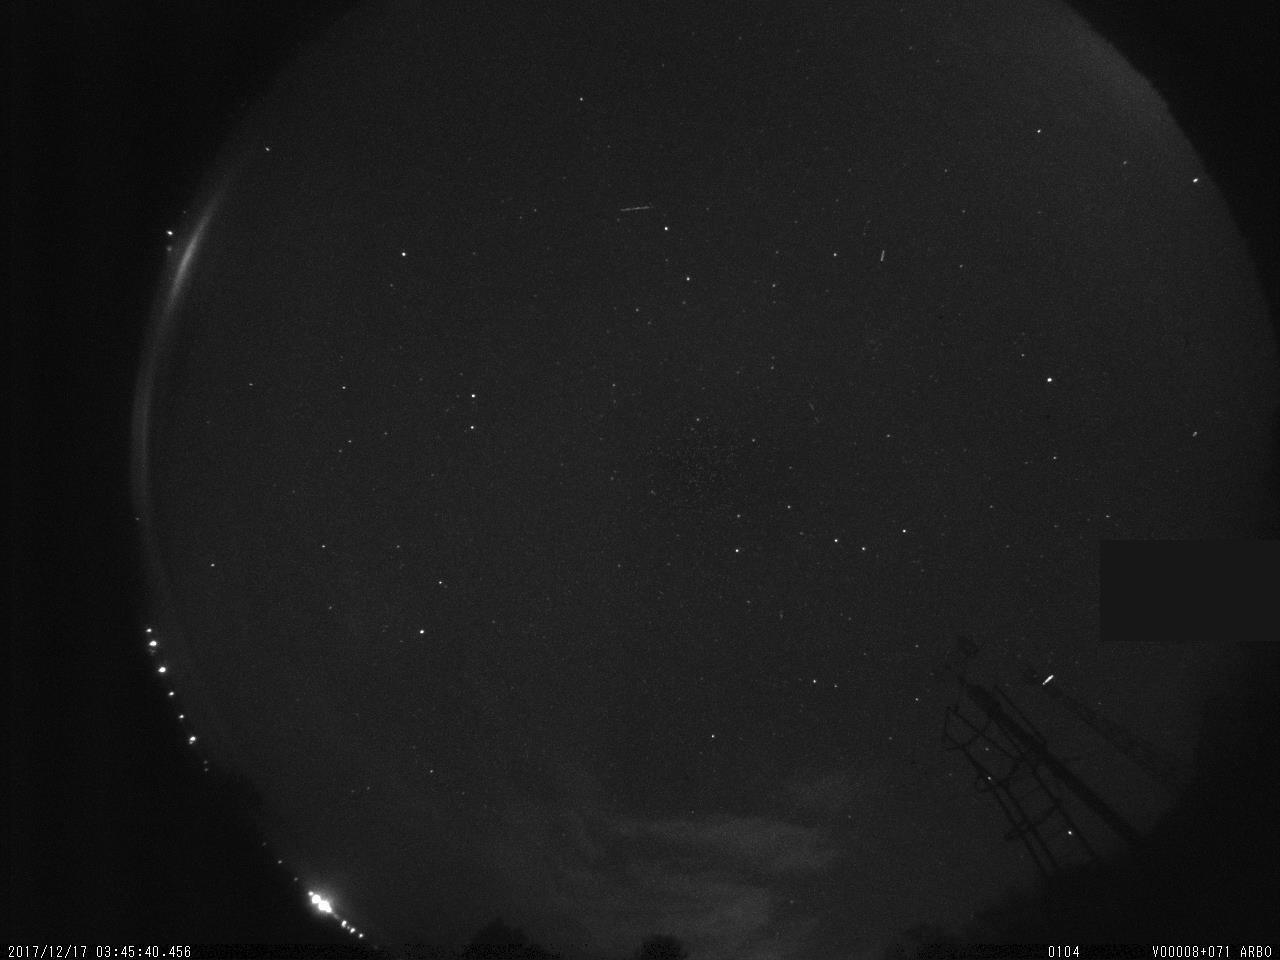meteor: (601, 196, 662, 217), (1041, 663, 1059, 692)
